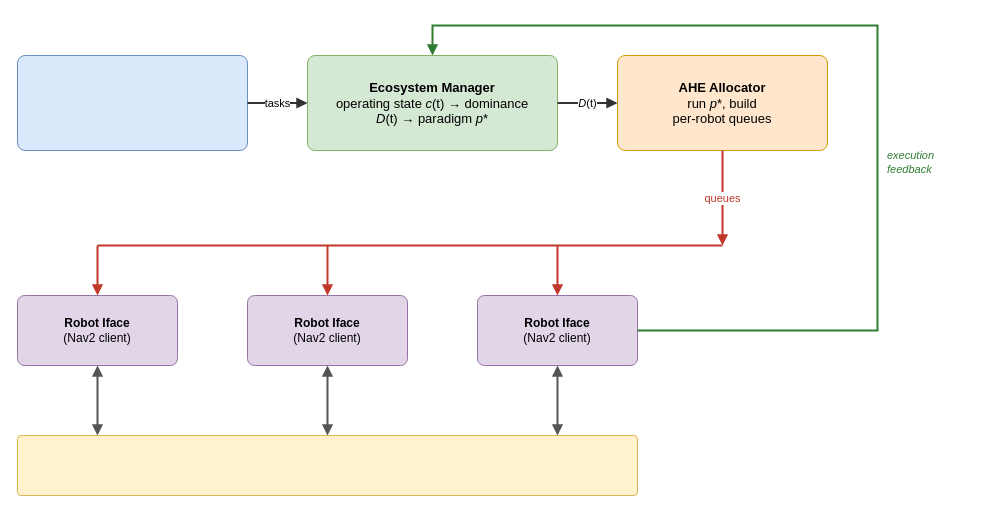
Some shapes in this 983 by 513 pixel diagram are drawn without their labels. Each missing label, with the centre of its shape:
"Nav2 + Gazebo Harmonic (TurtleBot3 Waffle Pi, headless)" belongs at pixel 327 465.
"Task Manager (goal pool, batch release, deadlines)" belongs at pixel 132 102.
